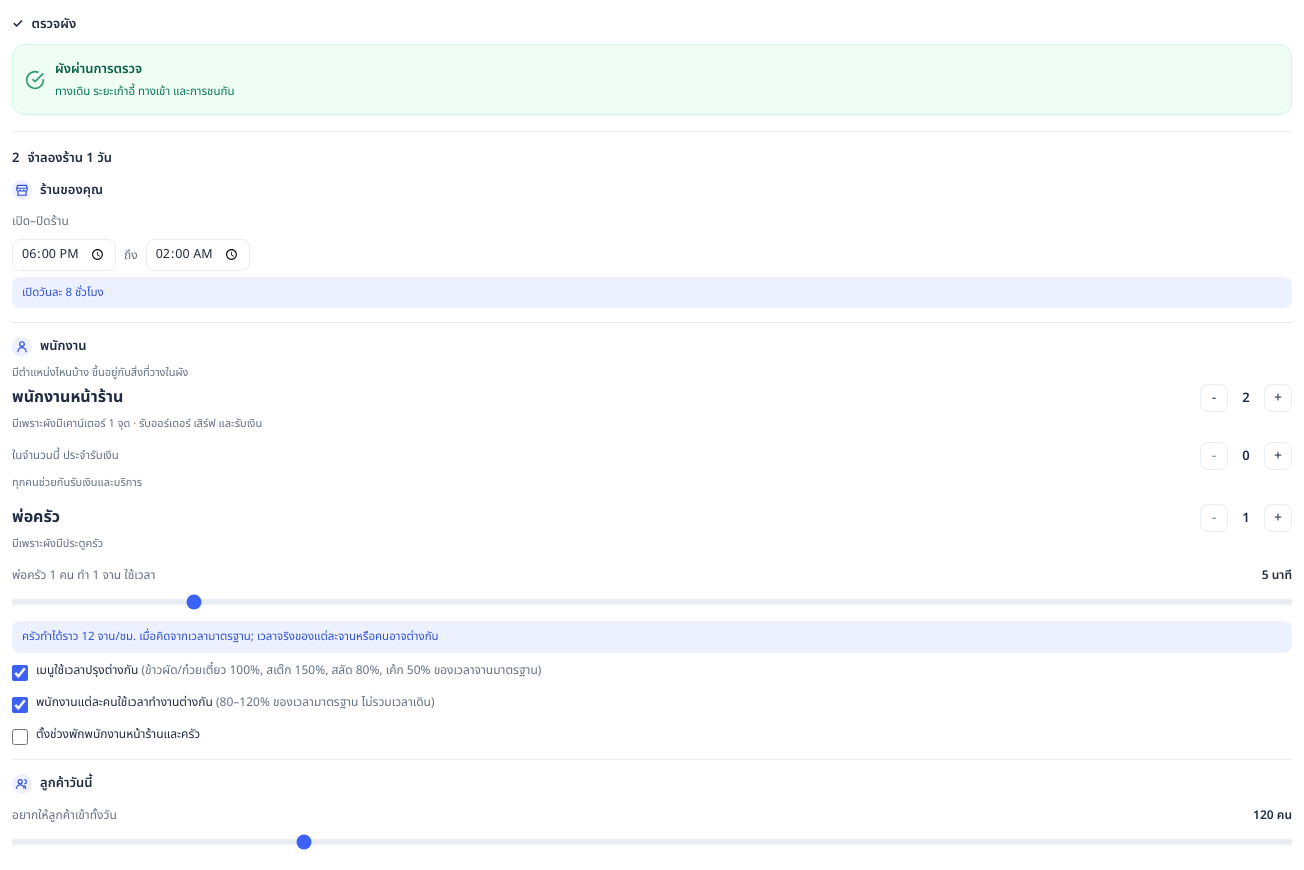
Test: แผงจำลองร้าน 1 วัน (feat-095) › ตั้งช่วงพักทั้งทีมของร้านข้ามเที่ยงคืนได้
Click the checkbox labelled "ตั้งช่วงพักพนักงานหน้าร้านและครัว": {"x": 20, "y": 737} x1=12 y1=729 x2=28 y2=745
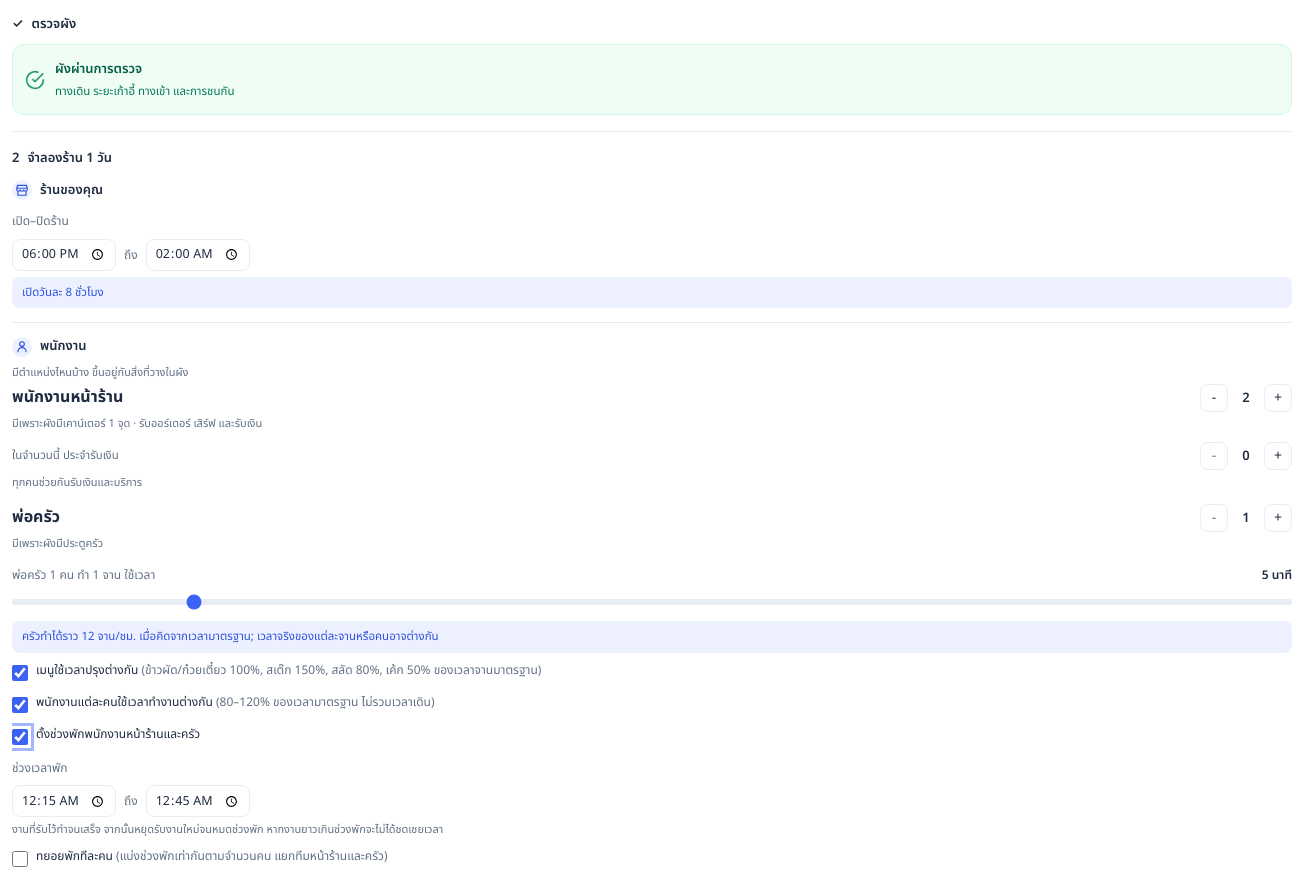
Click the checkbox labelled "ทยอยพักทีละคน": {"x": 20, "y": 859} x1=12 y1=851 x2=28 y2=867
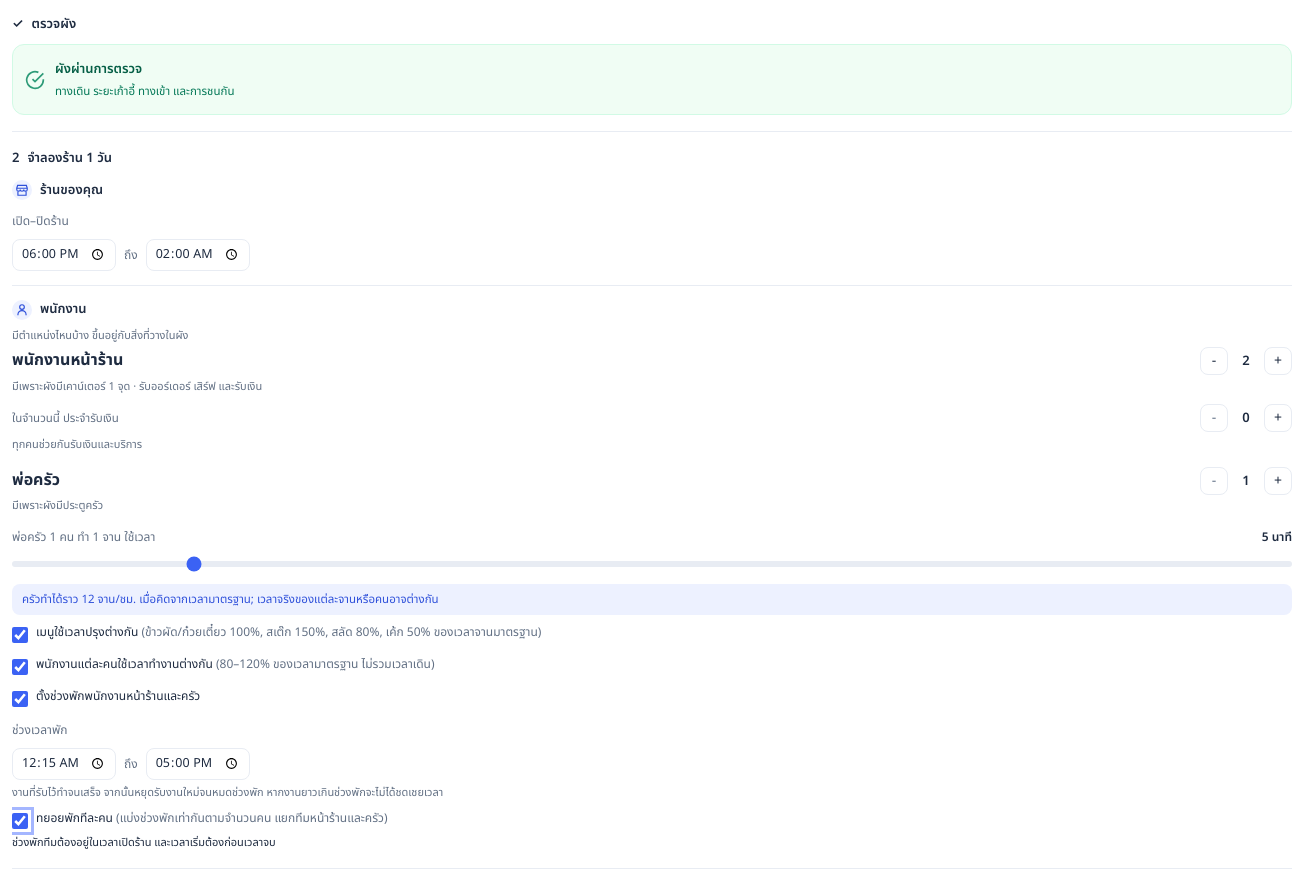
Expected: the message shows "ช่วงพักทีมต้องอยู่ในเวลาเปิดร้าน", x1=12 y1=834 x2=276 y2=851
